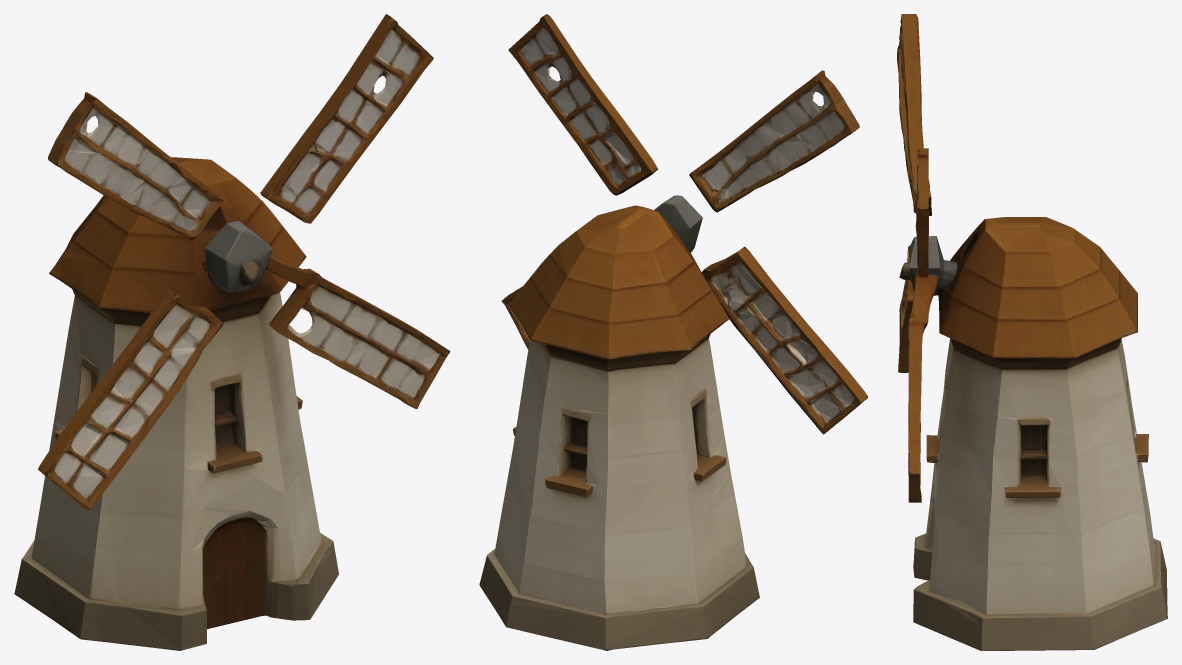
The model's file is windmill.glb.
3 renders of one model, left to right at view 1: azimuth 30°, elevation 25°; view 2: azimuth 150°, elevation 25°; view 3: azimuth 270°, elevation 25°, orthographic. The views are drawn at different scales.
Visible parts, largest first — view 1: world; view 2: world; view 3: world.
Part boxes in pixels (x1,y1,x2,y2): world: (14, 14, 450, 650); world: (479, 14, 868, 650); world: (897, 14, 1167, 650).
Bounding box in the file's own units: 0.7394 × 1 × 0.4786.
1 material, 1 textured.
